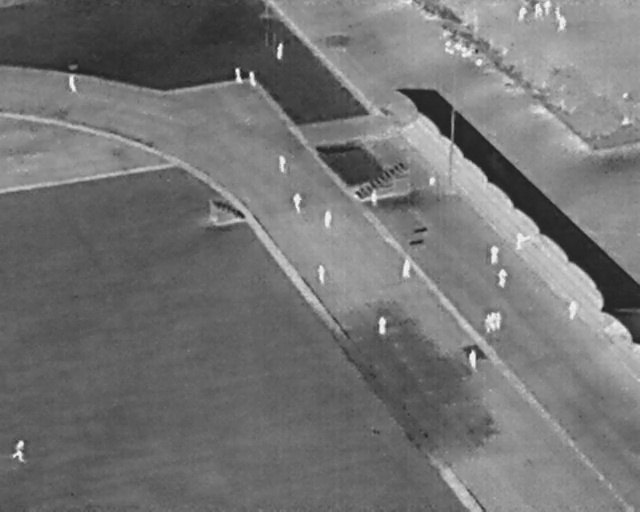DontCare: (438, 27, 488, 69)
Person: (13, 440, 26, 463), (569, 299, 579, 321), (293, 192, 303, 213), (497, 269, 508, 288), (490, 245, 500, 265), (68, 74, 77, 94), (278, 154, 287, 174), (317, 265, 326, 285), (518, 5, 528, 23), (378, 316, 387, 335), (324, 209, 332, 229), (235, 67, 244, 84), (469, 350, 477, 369), (543, 1, 552, 17), (554, 5, 562, 22), (484, 313, 491, 332), (249, 71, 257, 87), (535, 3, 543, 19), (558, 16, 566, 32), (403, 259, 410, 277), (495, 312, 502, 330), (371, 189, 378, 207), (491, 312, 497, 332), (277, 43, 284, 60)
